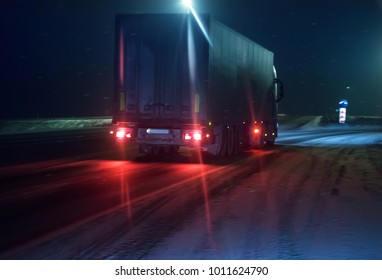truck: (116, 11, 279, 163)
